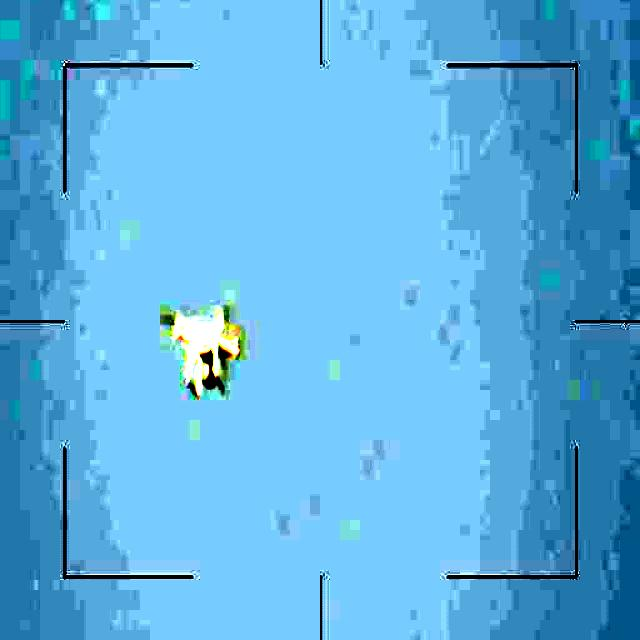bird: (160, 306, 250, 398)
